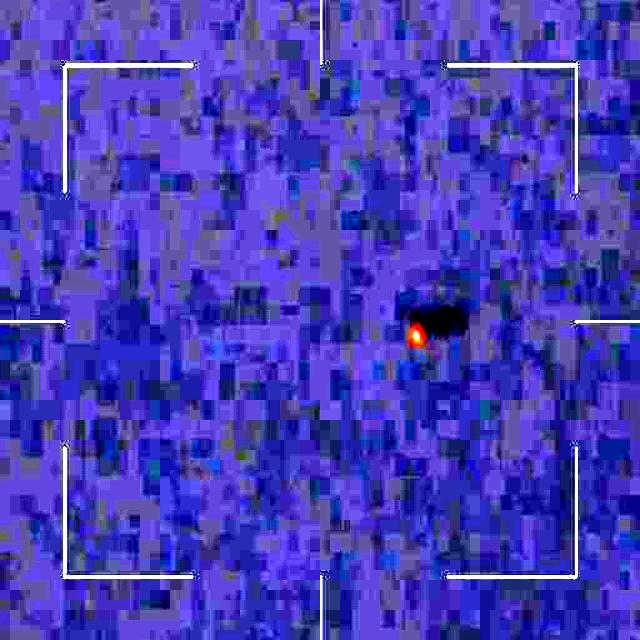bird: (408, 319, 435, 355)
